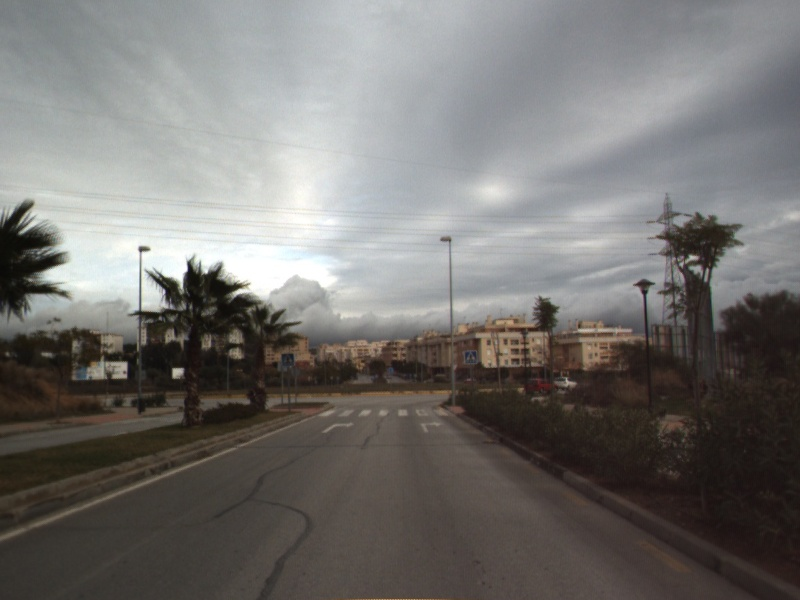RIGHT: (320, 419, 356, 435), (419, 419, 444, 434)
